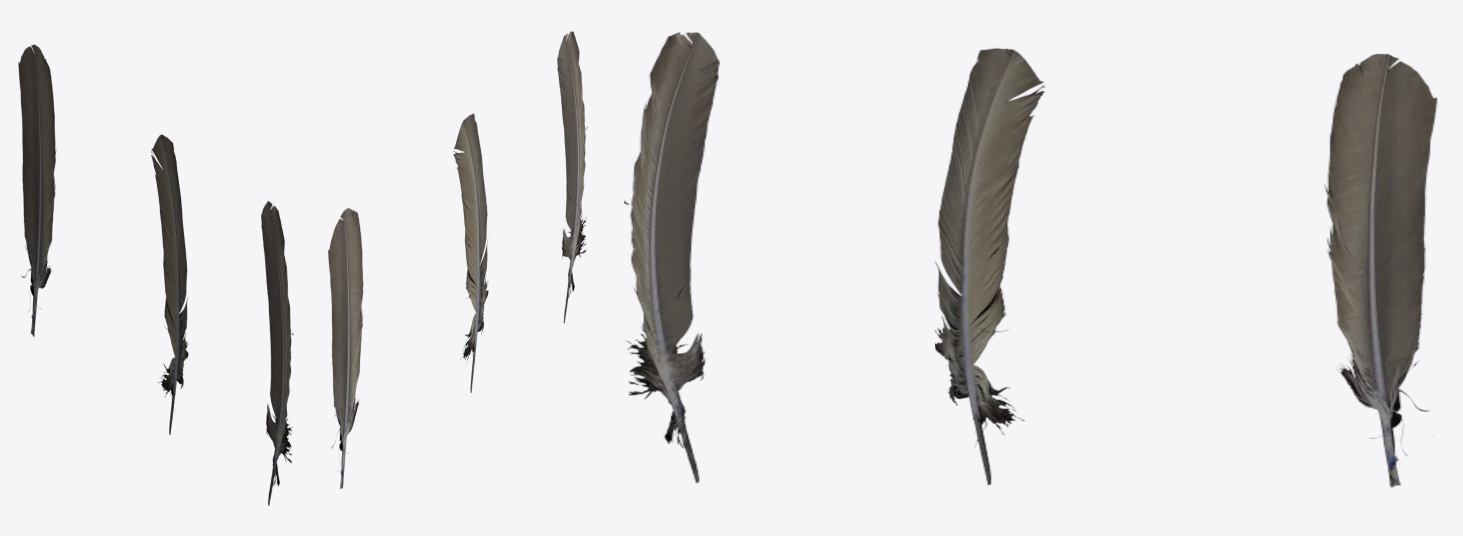
File: Bird_Feather_Blue.glb
The picture shows the model from 3 angles, left to right: view 1: azimuth 30°, elevation 25°; view 2: azimuth 150°, elevation 25°; view 3: azimuth 270°, elevation 25°; orthographic projection. The views are drawn at different scales.
Visible parts, largest first — view 1: Object_2; view 2: Object_2; view 3: Object_2.
Part boxes in pixels (x1,y1,x2,y2): Object_2: (18,44,293,505); Object_2: (328,31,587,488); Object_2: (624,32,1437,487).
Bounding box in the file's own units: 1.9e-06 × 0.3374 × 0.5.
Materials: 1 (1 with a texture image).
